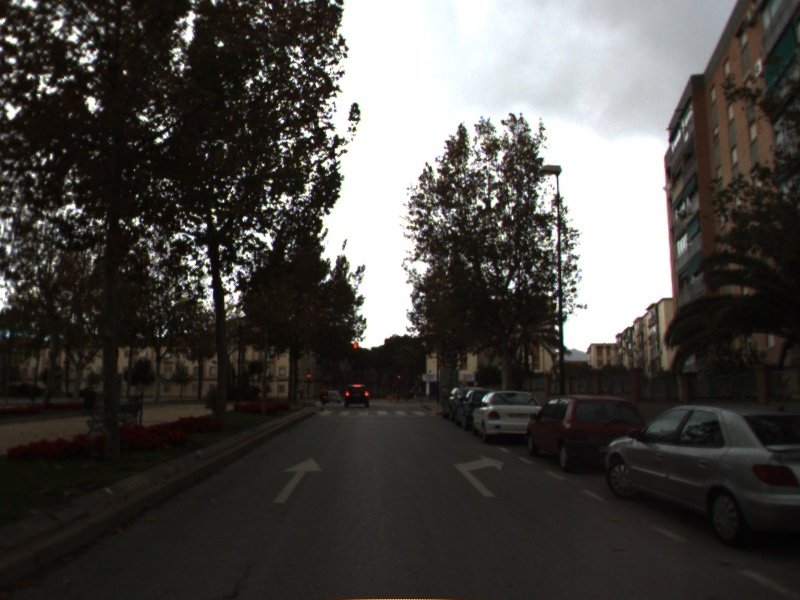RIGHT: (451, 452, 506, 499)
STRAIGHT: (270, 454, 326, 505)
